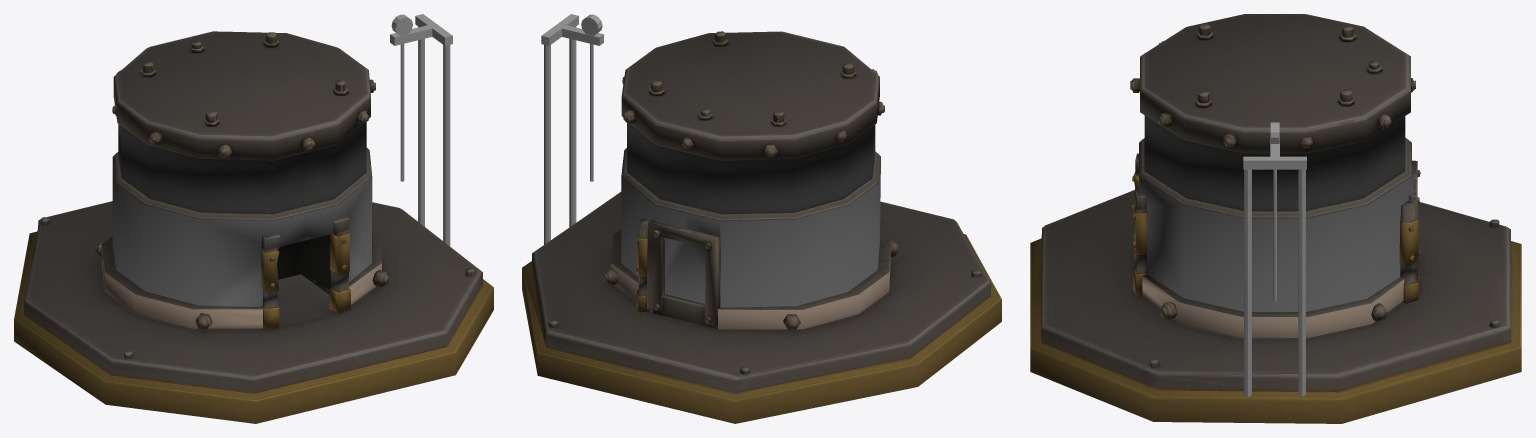
File: base_mine.glb
3 views of the same model, side by side, from view 1: azimuth 30°, elevation 25°; view 2: azimuth 150°, elevation 25°; view 3: azimuth 270°, elevation 25° (orthographic). The views are drawn at different scales.
Parts seen in each view (by area): view 1: base_mine; view 2: base_mine; view 3: base_mine.
Boxes of the visible parts, x1,y1,x2,y2 form: base_mine: (14, 14, 493, 423); base_mine: (522, 14, 1001, 423); base_mine: (1030, 14, 1521, 423).
Bounding box in the file's own units: 4.99 × 3.14 × 4.99.
4 materials, 1 textured.
